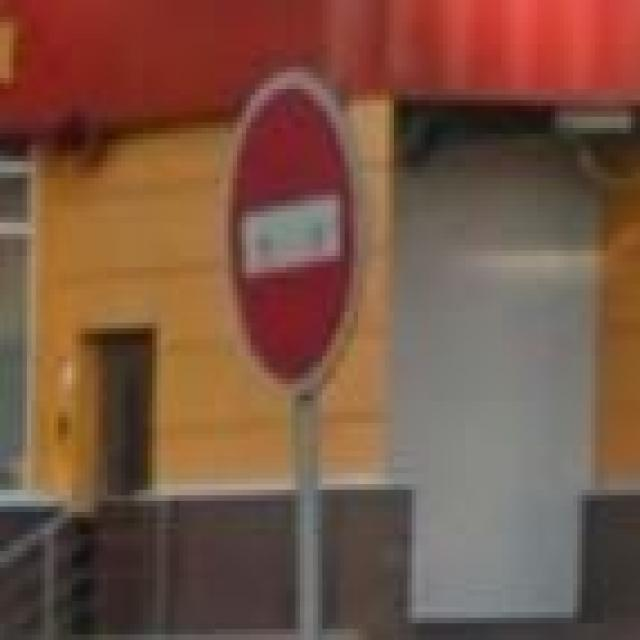do_not_enter: (219, 67, 367, 400)
